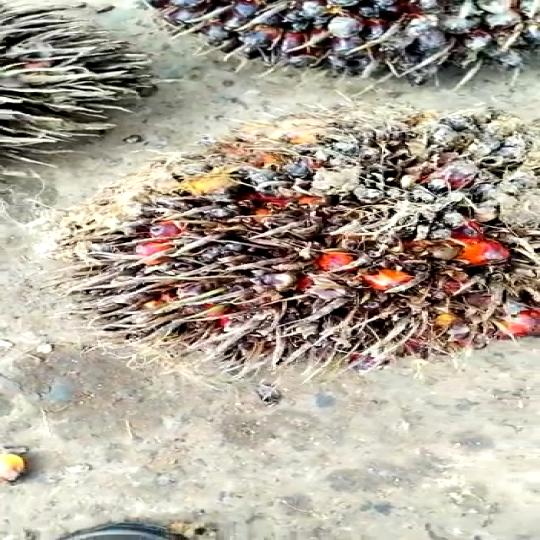terlalu masak: (56, 97, 540, 390)
